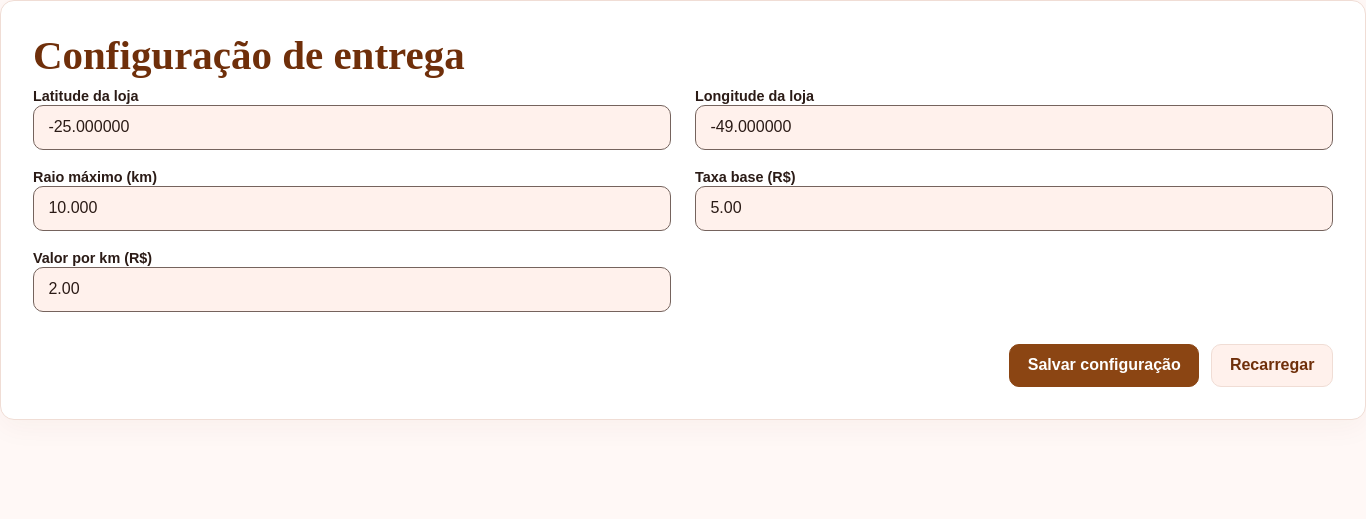
Scenario: carrega configuração, valida precisão e envia PUT completo
Expected: the field showing "-25.000000" is shown, [33, 105, 671, 150]
Replace the text in the field labelled "Taxa base (R$)" with "1.234" at (1014, 208), box [695, 186, 1333, 231]
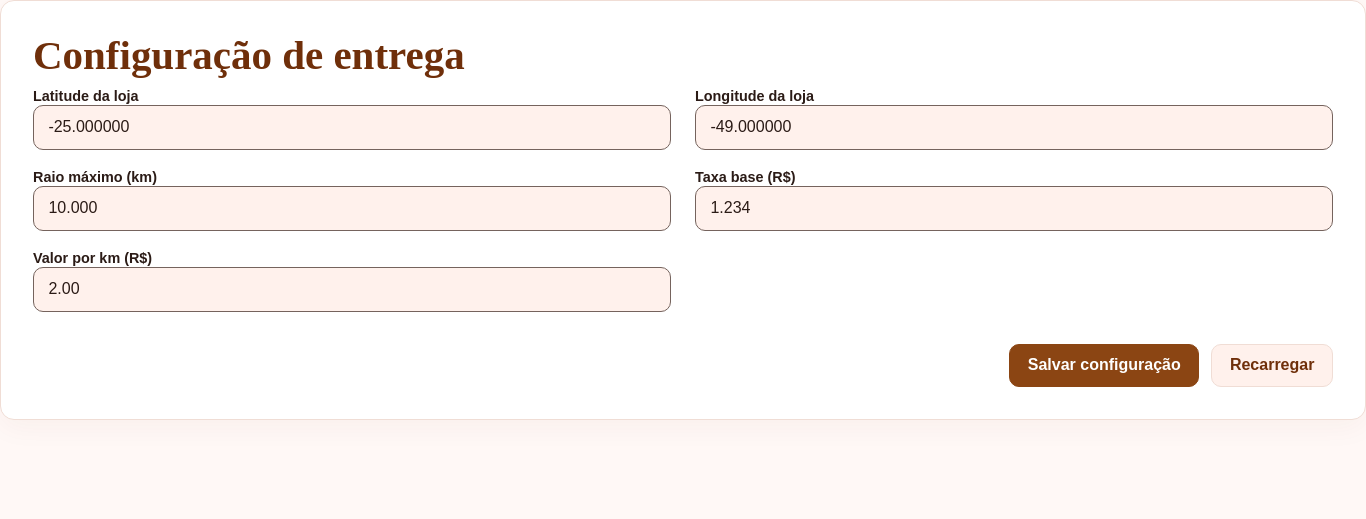
Click the button "Salvar configuração".
click(1104, 365)  # box [1009, 344, 1199, 387]
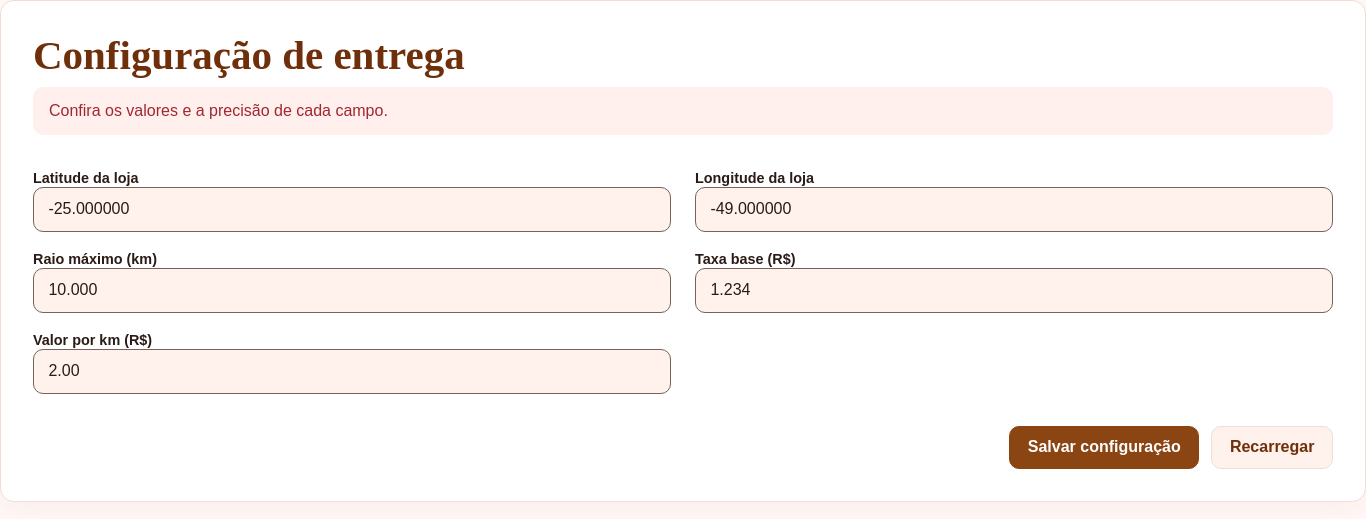
Now the message shows "Confira os valores", box [49, 102, 388, 119]
Replace the text in the field labelled "Taxa base (R$)" with "6.00" at (1014, 290), box [695, 268, 1333, 313]
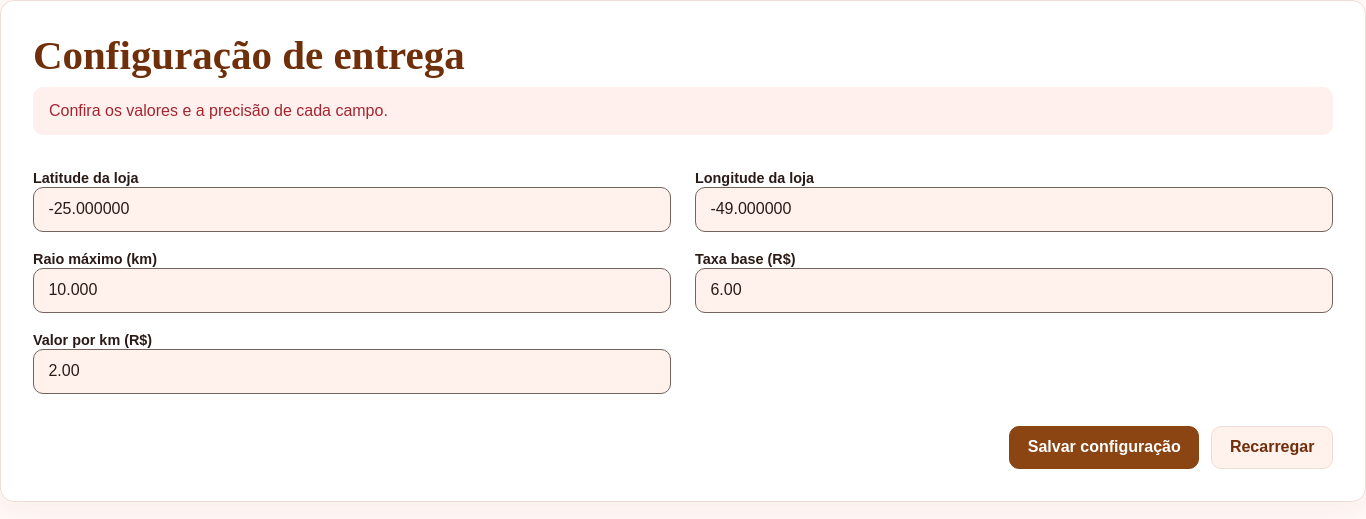
Click the button "Salvar configuração".
click(1104, 447)  # box [1009, 426, 1199, 469]
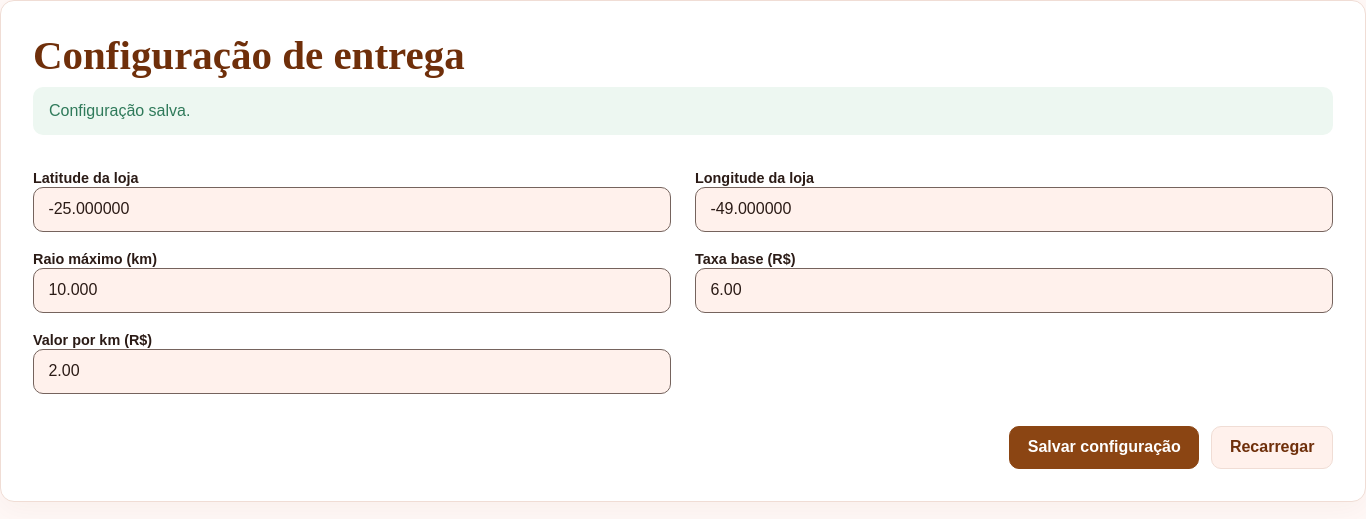
Now the message reads "Configuração salva.", box [49, 102, 190, 119]
